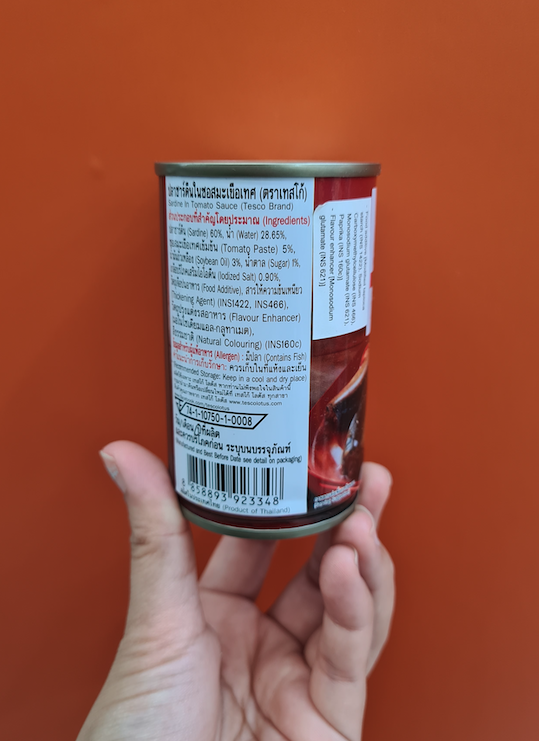Canned_Sardines_and_Mackerel: (163, 171, 374, 512)
